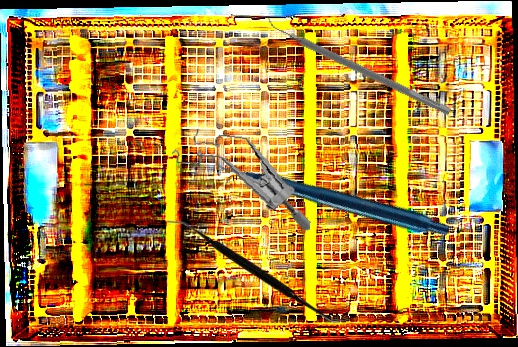Handpiece: (207, 64, 453, 322)
Spatula Surgical: (261, 13, 455, 116), (166, 218, 350, 323)
Speculum: (163, 125, 322, 232)
